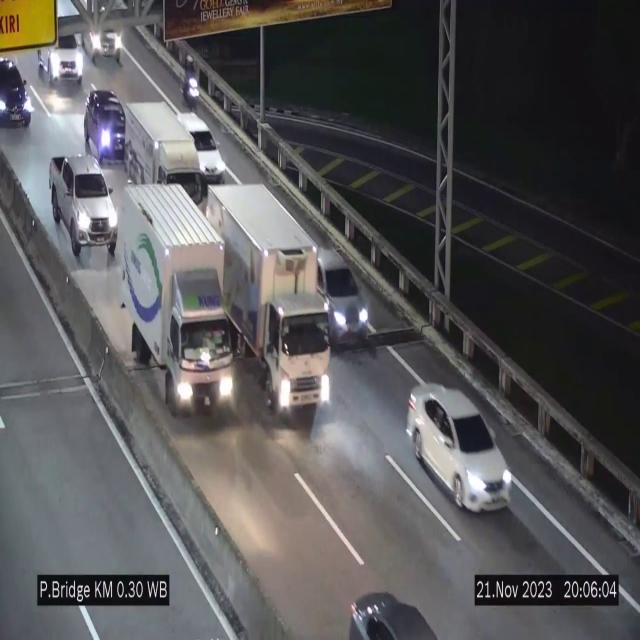Car: (406, 383, 514, 510), (51, 146, 120, 252), (340, 581, 450, 640), (316, 248, 370, 348), (80, 86, 128, 166), (36, 20, 92, 88), (175, 111, 228, 180), (80, 5, 124, 70), (0, 58, 33, 132)
Motorcycle: (181, 53, 205, 113)
Truck: (121, 180, 231, 416), (218, 184, 328, 415), (123, 101, 205, 204)
